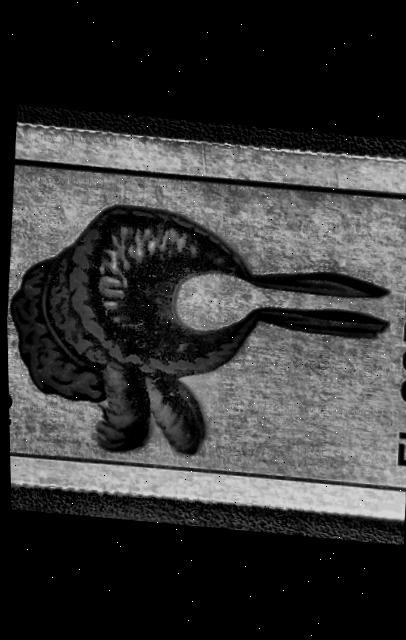El Gorrito: (2, 133, 406, 503)
